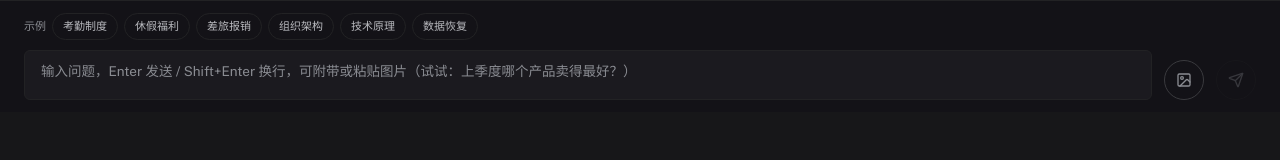
Test: ChatInput › 输入文本后发送按钮可用
In the text box with placeholder "输入问题，Enter 发送 / Shift+Enter 换行，可附带或粘贴图片（试试：上季度哪个产品卖得最好？）": (588, 72) [25, 51, 1151, 93], type "你好"
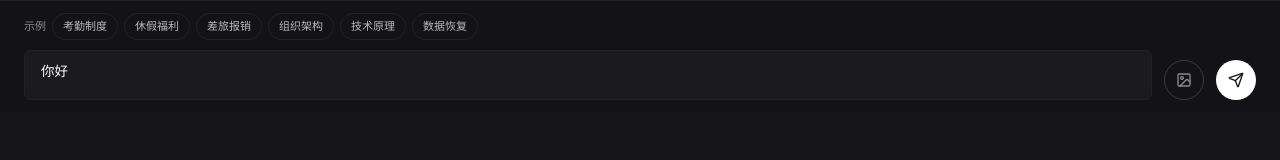
Now the button named "发送" is enabled, box [1216, 60, 1256, 100]
